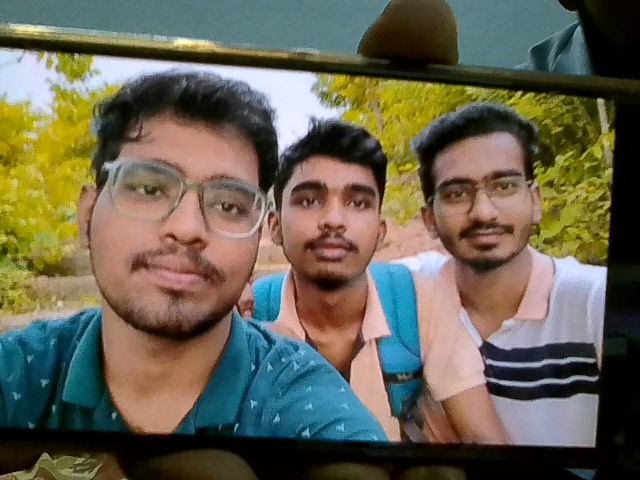real: (72, 54, 282, 351), (417, 97, 541, 273), (277, 129, 386, 283)
